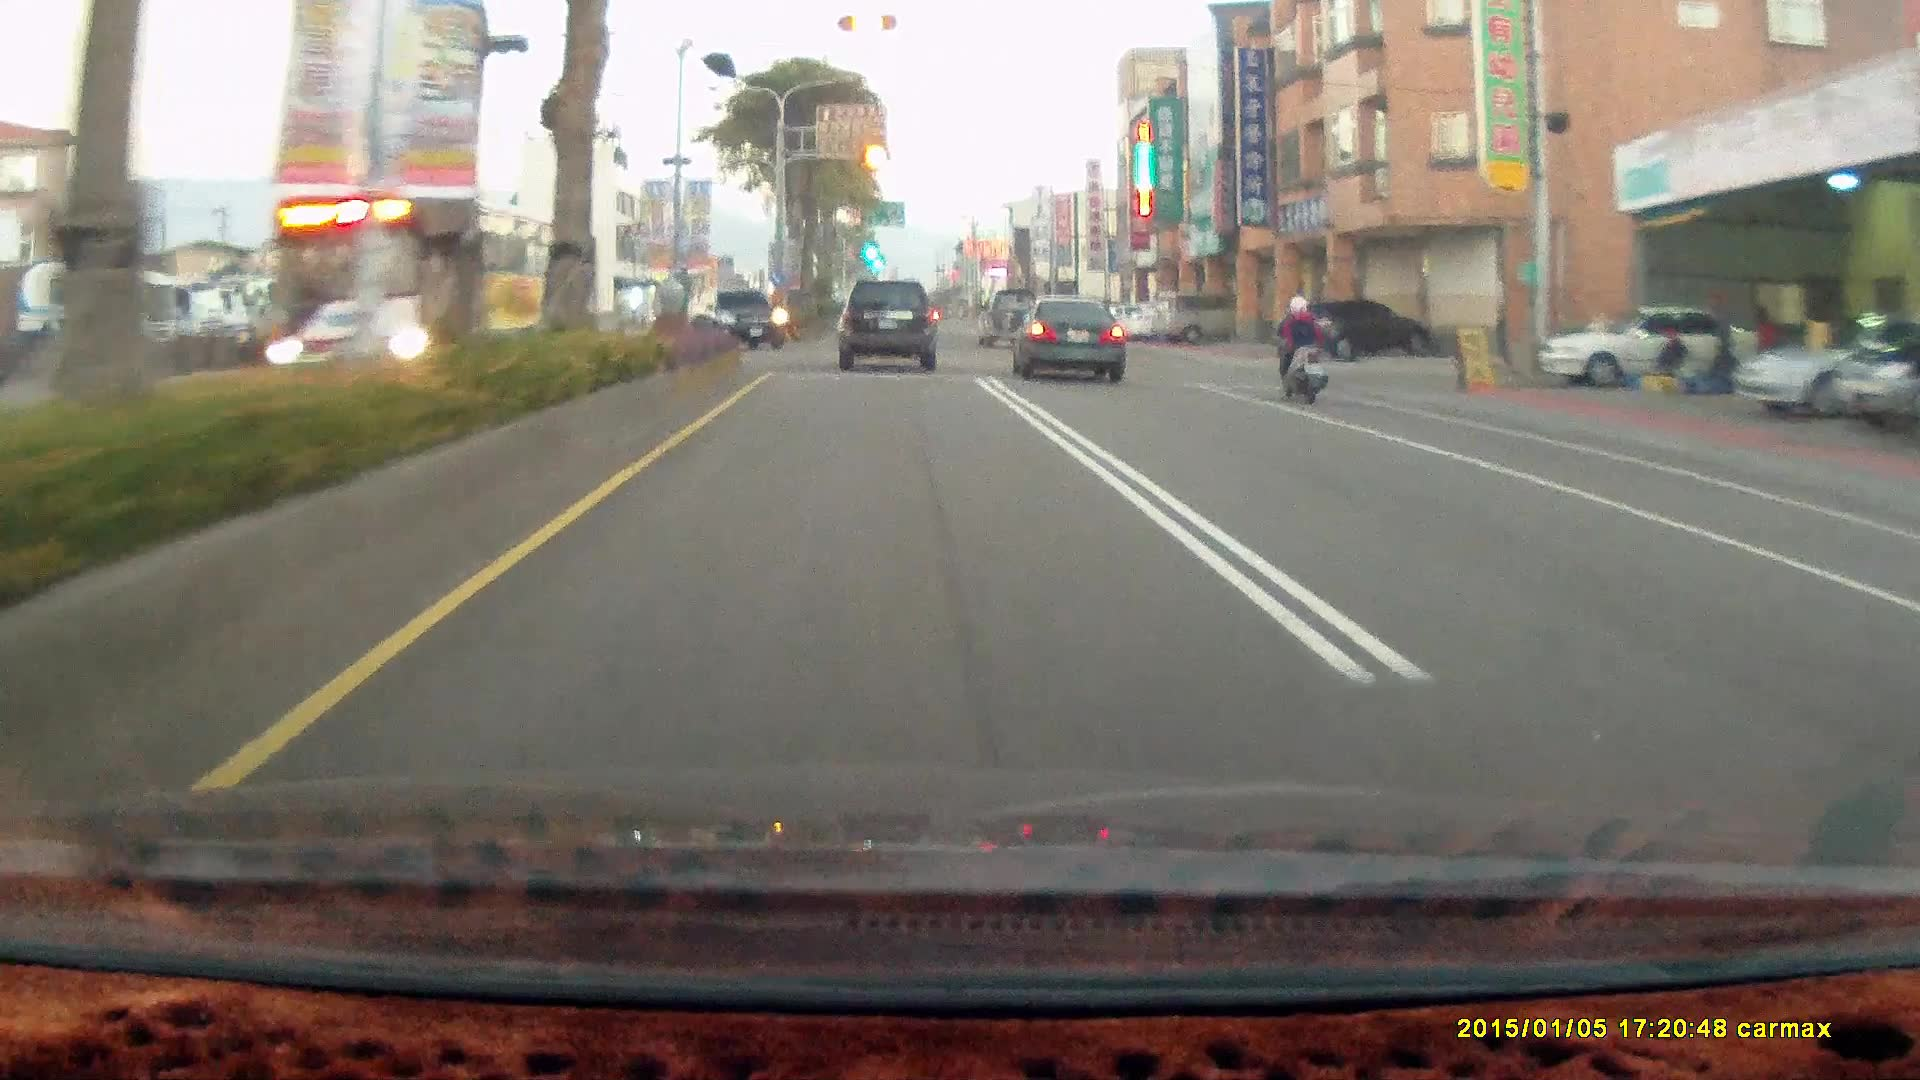pedestrian: (1711, 291, 1740, 394), (1754, 303, 1784, 390), (1659, 326, 1689, 392)
rider: (1264, 284, 1339, 413), (1270, 294, 1328, 402)
vehicle: (247, 185, 604, 384), (271, 193, 601, 392), (1733, 313, 1920, 415), (1533, 303, 1764, 385), (1739, 310, 1902, 412), (1581, 303, 1779, 380), (1012, 297, 1132, 390), (1828, 312, 1920, 430), (1003, 293, 1123, 381), (838, 281, 943, 374), (1277, 297, 1431, 360), (1277, 299, 1431, 363), (836, 277, 935, 370), (699, 284, 787, 351), (698, 284, 787, 347), (1151, 291, 1258, 342), (1154, 291, 1241, 345), (975, 287, 1041, 348)
